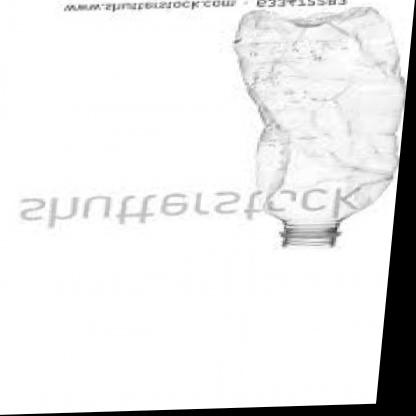trash: (234, 7, 403, 245)
